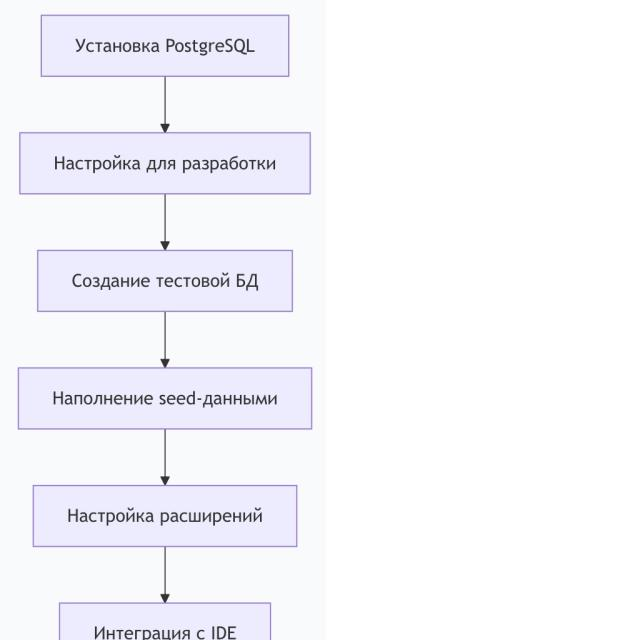arrow: (158, 312, 172, 368), (158, 430, 172, 486), (158, 548, 172, 603), (159, 196, 172, 250), (159, 78, 171, 132)
rectangle: (17, 366, 314, 430), (18, 132, 312, 195), (32, 483, 299, 548), (36, 248, 294, 313), (40, 13, 290, 78)
